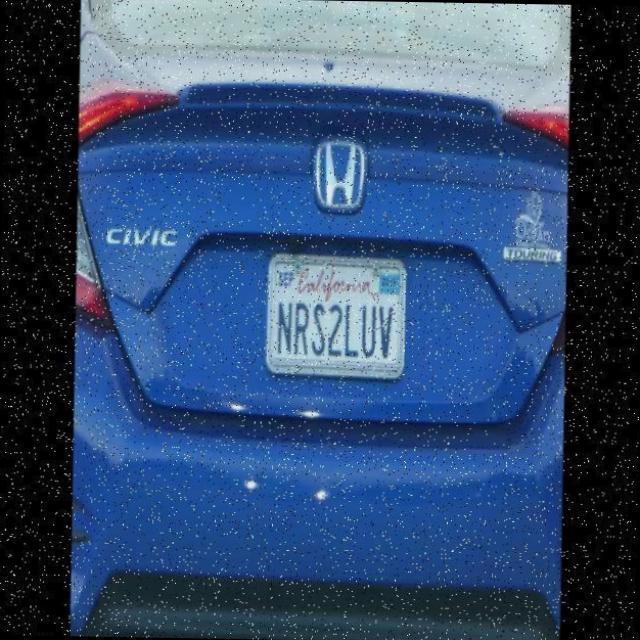LicensePlate: (264, 250, 410, 378)
